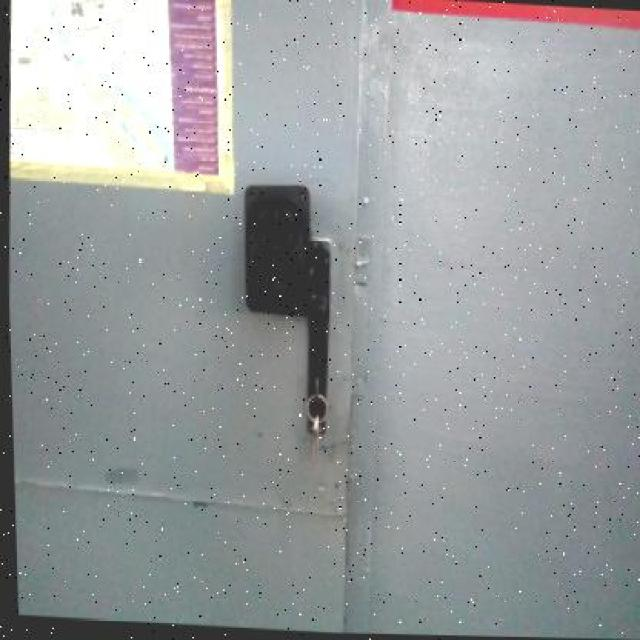CCS2: (227, 163, 338, 340)
